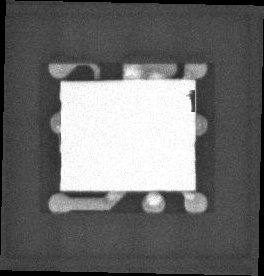DIE_BROKEN: (185, 88, 197, 113)
